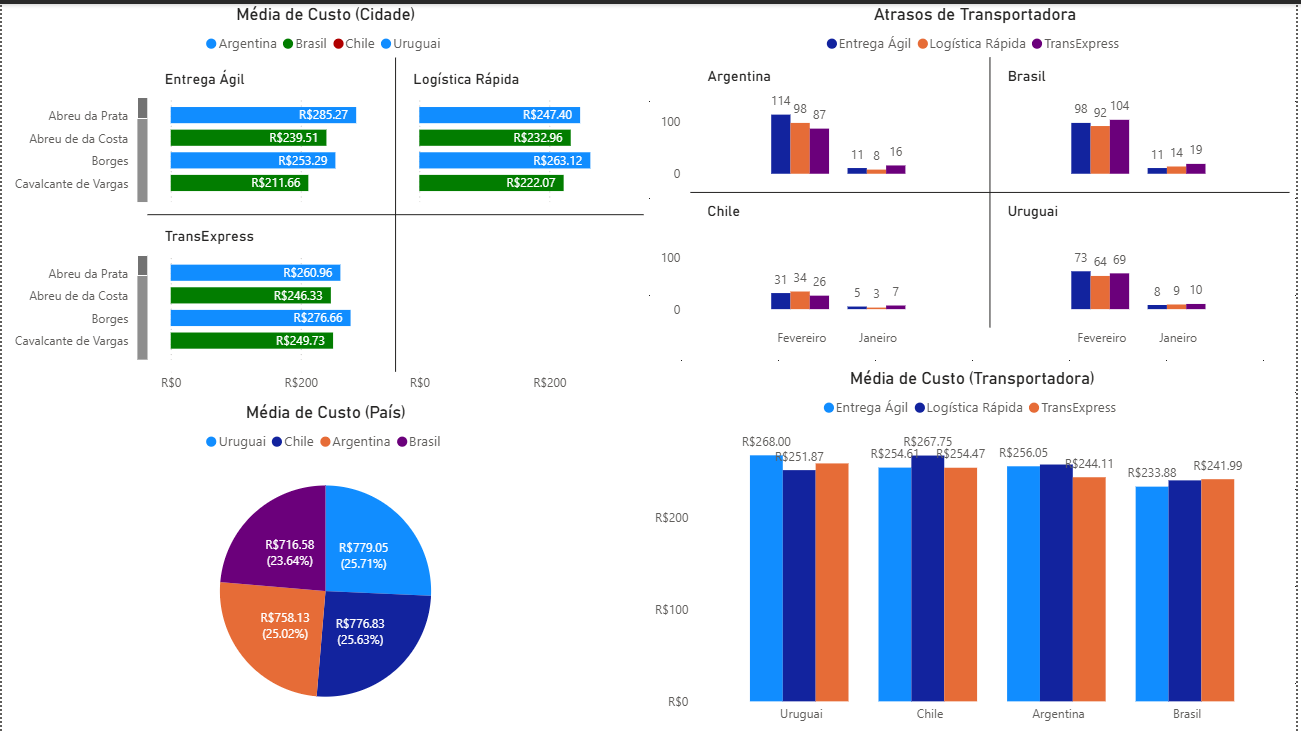

What the dashboard file says about the page in this screenshot:
{"tool":"powerbi","page":{"name":"Página 2","canvas":[1280,720],"ordinal":1},"visuals":[{"type":"clusteredColumnChart","title":"Atrasos de Transportadora","fields":{"Category":["Mes.mes_envio"],"Y":["Sum(Mes.atrasos)"],"Series":["Mes.transportadora"],"Rows":["Mes.pais"]},"box":[646.3,0,633.4,349.4],"z":0},{"type":"clusteredColumnChart","title":"Média de Custo (Transportadora)","fields":{"Category":["Avg_transportadora.pais"],"Y":["Sum(Avg_transportadora.AVG_custo_envio)"],"Series":["Avg_transportadora.transportadora"]},"box":[640.3,360.2,639.3,360.2],"z":1},{"type":"pieChart","title":"Média de Custo (País)","fields":{"Category":["Avg_transportadora.pais"],"Y":["Sum(Avg_transportadora.AVG_custo_envio)"]},"box":[0,393.9,640.3,326.6],"z":2},{"type":"barChart","title":"Média de Custo (Cidade)","fields":{"Y":["Sum(Avg_cidade.AVG_custo_envio)"],"Category":["Avg_cidade.cidade"],"Series":["Avg_cidade.pais"],"Rows":["Avg_cidade.transportadora"]},"box":[0,0,640.3,393.9],"z":3}]}

Visuals, with their boxes in screenshot pixels (x1, y1, x2, y2), scaled from the page's 1280x720 canvas onto the 1301x732 screenshot:
"Atrasos de Transportadora" clusteredColumnChart: select_region(657, 0, 1300, 355)
"Média de Custo (Transportadora)" clusteredColumnChart: select_region(651, 366, 1300, 731)
"Média de Custo (País)" pieChart: select_region(0, 400, 651, 731)
"Média de Custo (Cidade)" barChart: select_region(0, 0, 651, 400)
